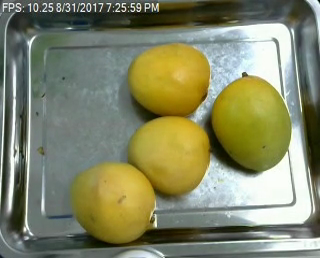Mango: (210, 72, 293, 173), (70, 161, 157, 245), (126, 114, 213, 195), (127, 44, 212, 117)
